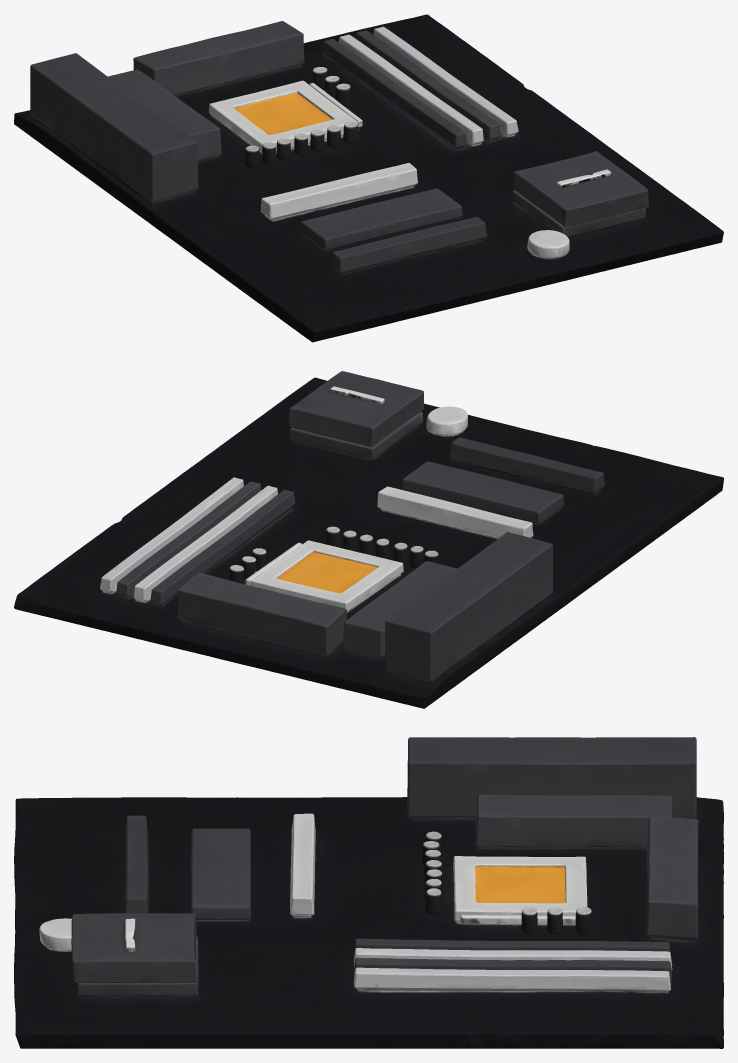
Rendered from motherboard.fbx.
3 views of the same model, one above another, from view 1: azimuth 30°, elevation 25°; view 2: azimuth 150°, elevation 25°; view 3: azimuth 270°, elevation 25° (orthographic). The views are drawn at different scales.
Visible parts, largest first — view 1: model; view 2: model; view 3: model.
Boxes of the visible parts, left/top/right/bottom form: model: left=14, top=14, right=723, bottom=342; model: left=14, top=371, right=723, bottom=708; model: left=14, top=737, right=723, bottom=1048.
Size of the model in its own units: 150 by 23.8 by 191.
Materials: 1 (1 with a texture image).
